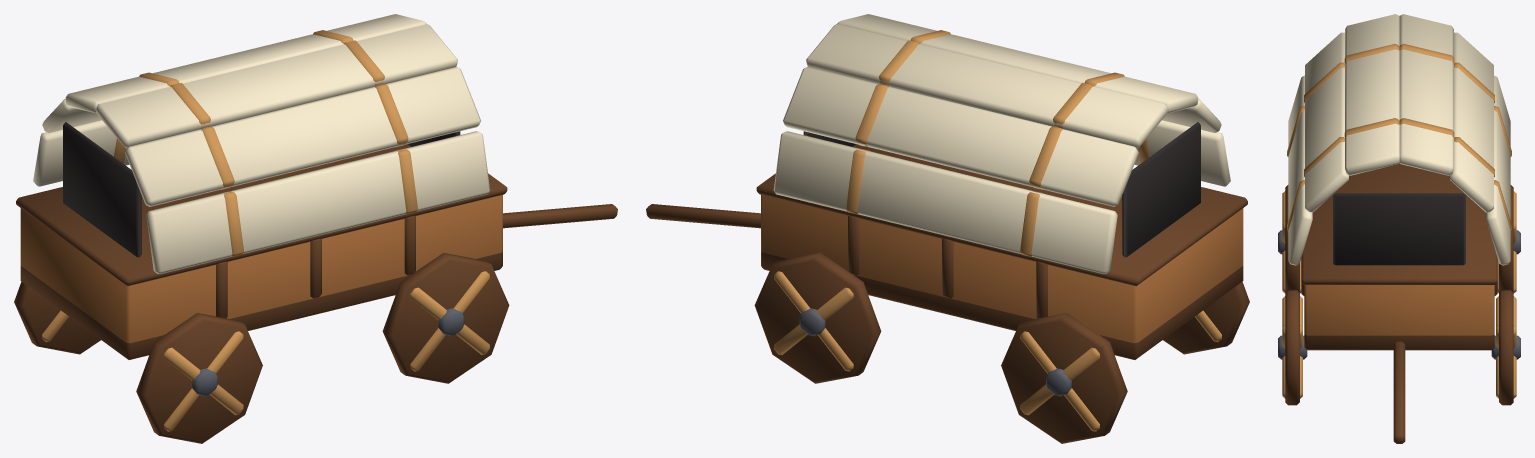
Rendered from P_MedWagon.fbx.
3 renders of one model, left to right at view 1: azimuth 30°, elevation 25°; view 2: azimuth 150°, elevation 25°; view 3: azimuth 270°, elevation 25°, orthographic. The views are drawn at different scales.
Visible parts, largest first — view 1: M_Wagon; view 2: M_Wagon; view 3: M_Wagon.
Part boxes in pixels (<box>): M_Wagon: <box>14,14,617,443</box>; M_Wagon: <box>646,14,1249,443</box>; M_Wagon: <box>1278,14,1520,443</box>.
Size of the model in its own units: 3.77 by 2.02 by 1.66.
Materials: 1 (1 with a texture image).
